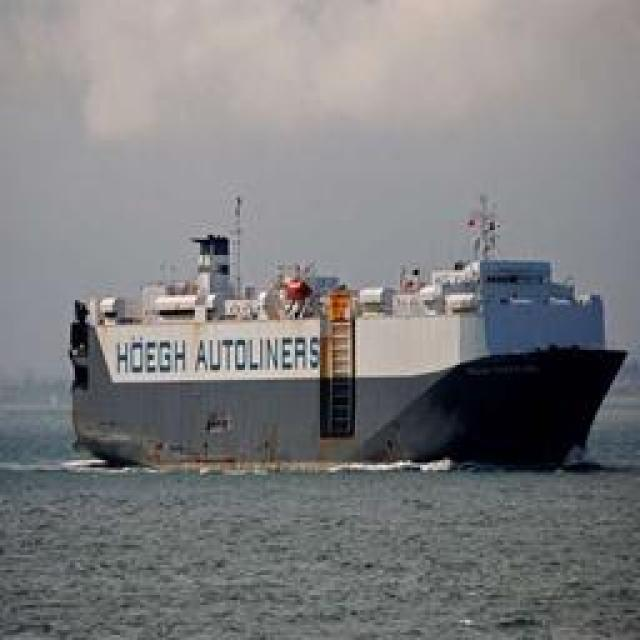ship2: (69, 193, 629, 476)
